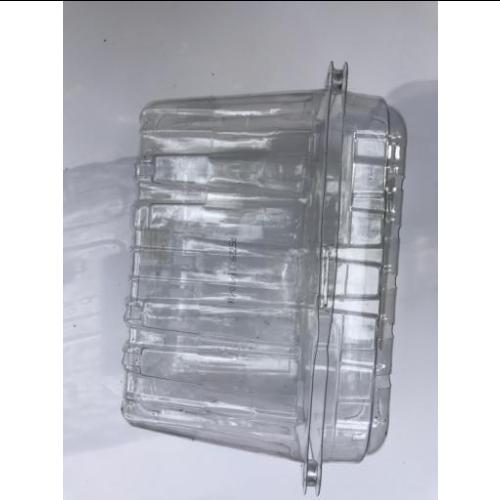plastic: (142, 100, 386, 453)
